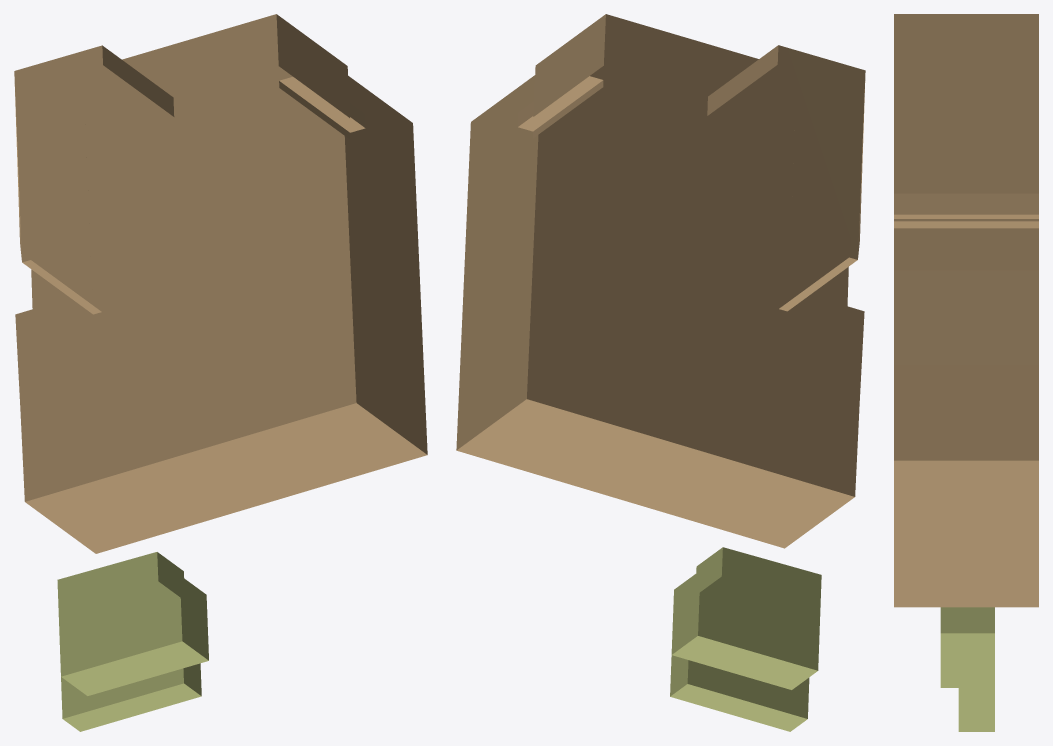
3 renders of one model, left to right at view 1: azimuth 30°, elevation 25°; view 2: azimuth 150°, elevation 25°; view 3: azimuth 270°, elevation 25°, orthographic. The views are drawn at different scales.
Parts seen in each view (by area): view 1: 0_0_3_2_1; view 2: 0_0_3_2_1; view 3: 0_0_3_2_1.
Boxes of the visible parts, <box> form: 0_0_3_2_1: <box>14,14,427,731</box>; 0_0_3_2_1: <box>456,14,865,731</box>; 0_0_3_2_1: <box>894,14,1038,731</box>.
Size of the model in its own units: 66.65 by 120 by 24.
